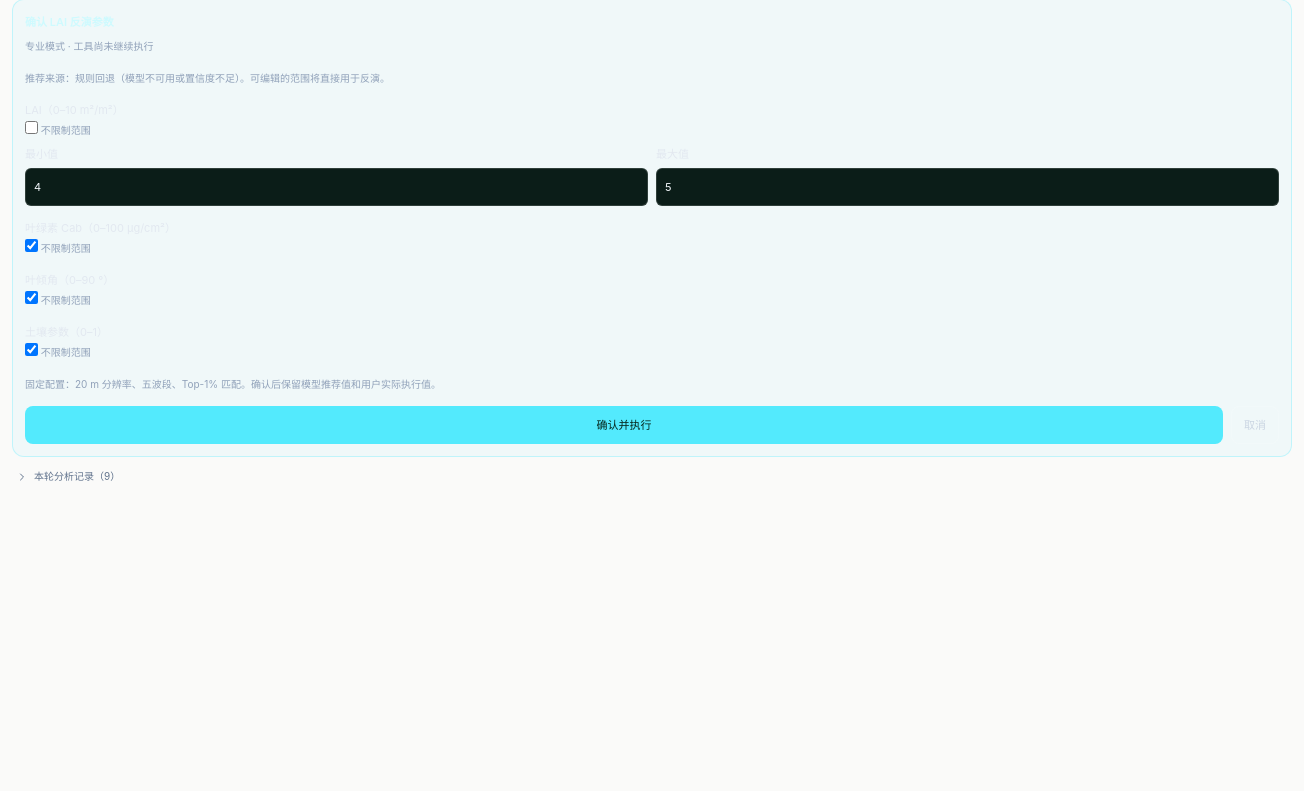
it: replaces completed cards with one history entry while keeping the current confirmation visible
Expected: the button "确认并执行" is shown, [25,406,1223,444]
Expected: the text "历史参数 0 · 已确认" is not shown
Click the button "本轮分析记录（9）". click: x=69, y=476
box: [12,465,1292,488]
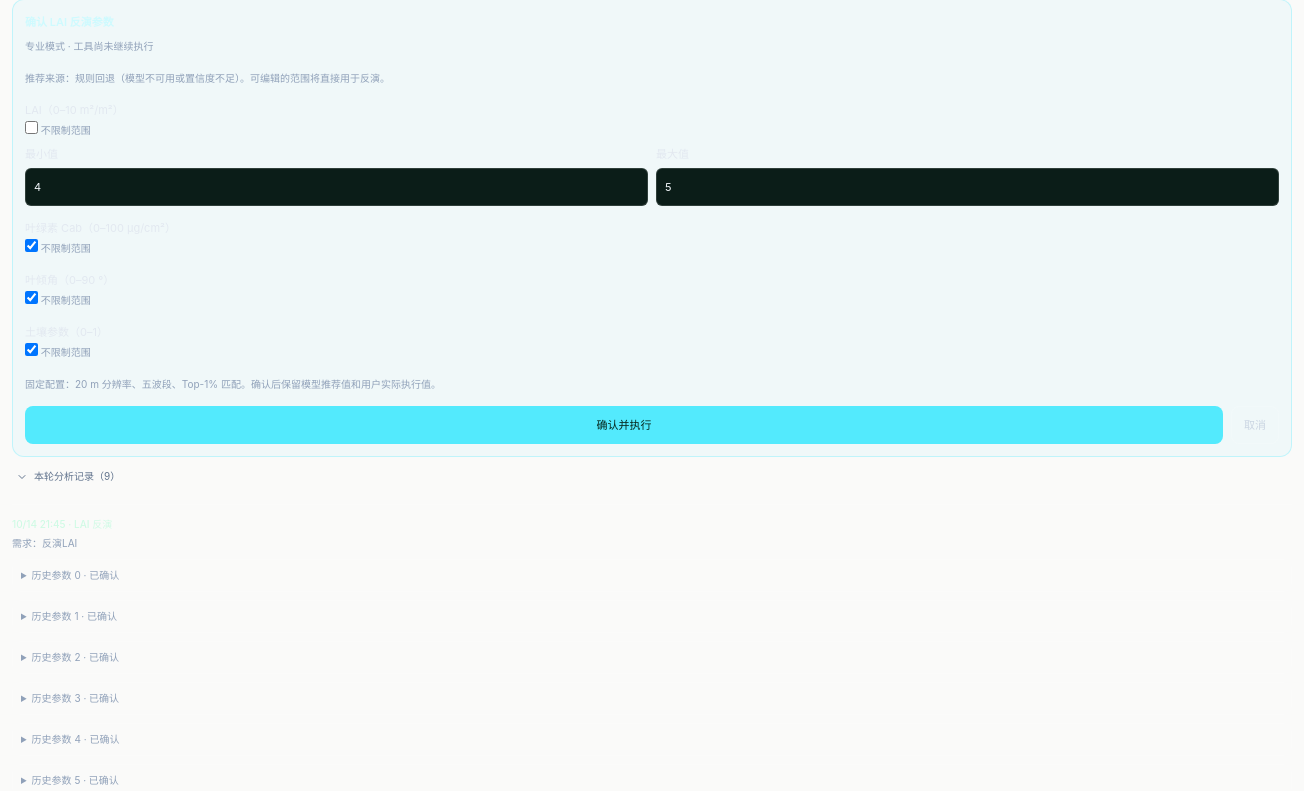
Expected: the heading "历史参数 0 · 已确认" is shown
Click the heading "历史参数 0 · 已确认". click: x=75, y=575
box: [32,569,119,581]
(page scrolled)
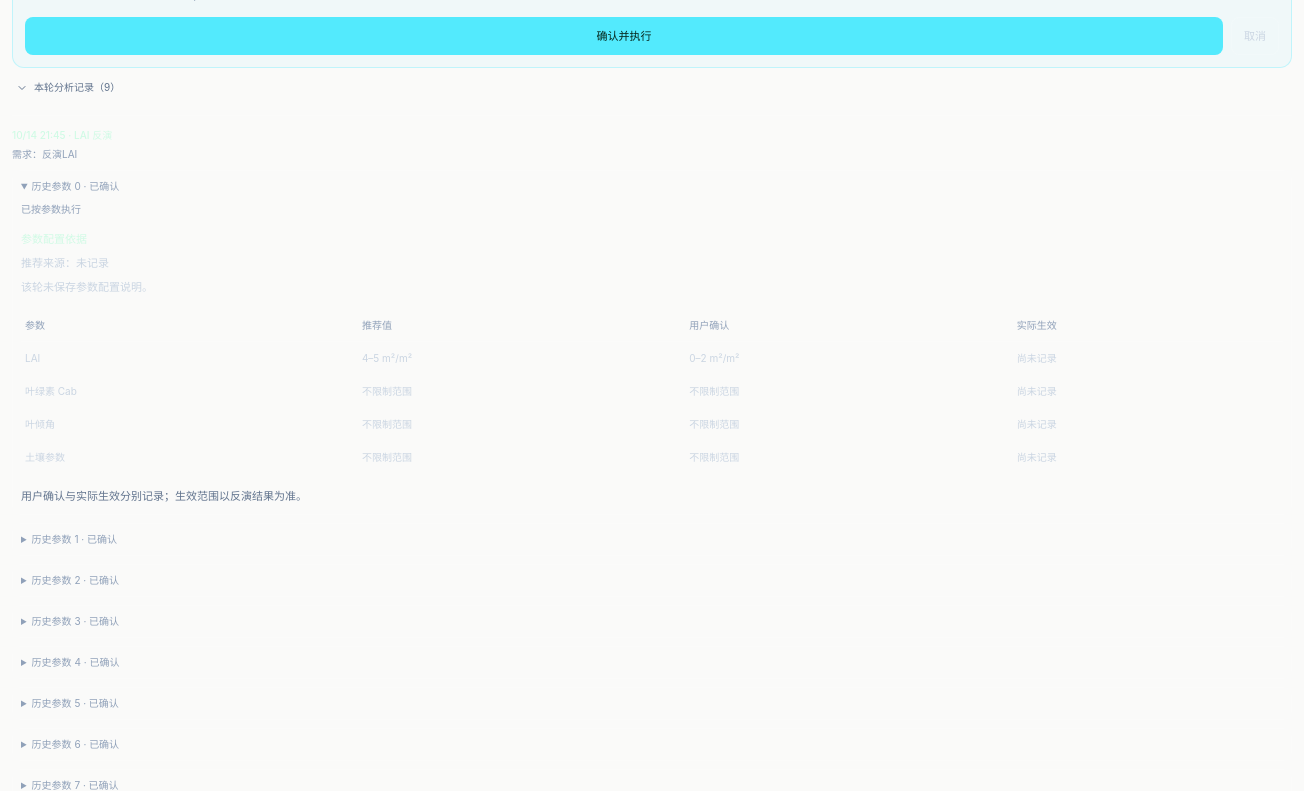
Expected: the table named "LAI 参数对比" shows "0–2 m²/m²", [689,352,740,364]
